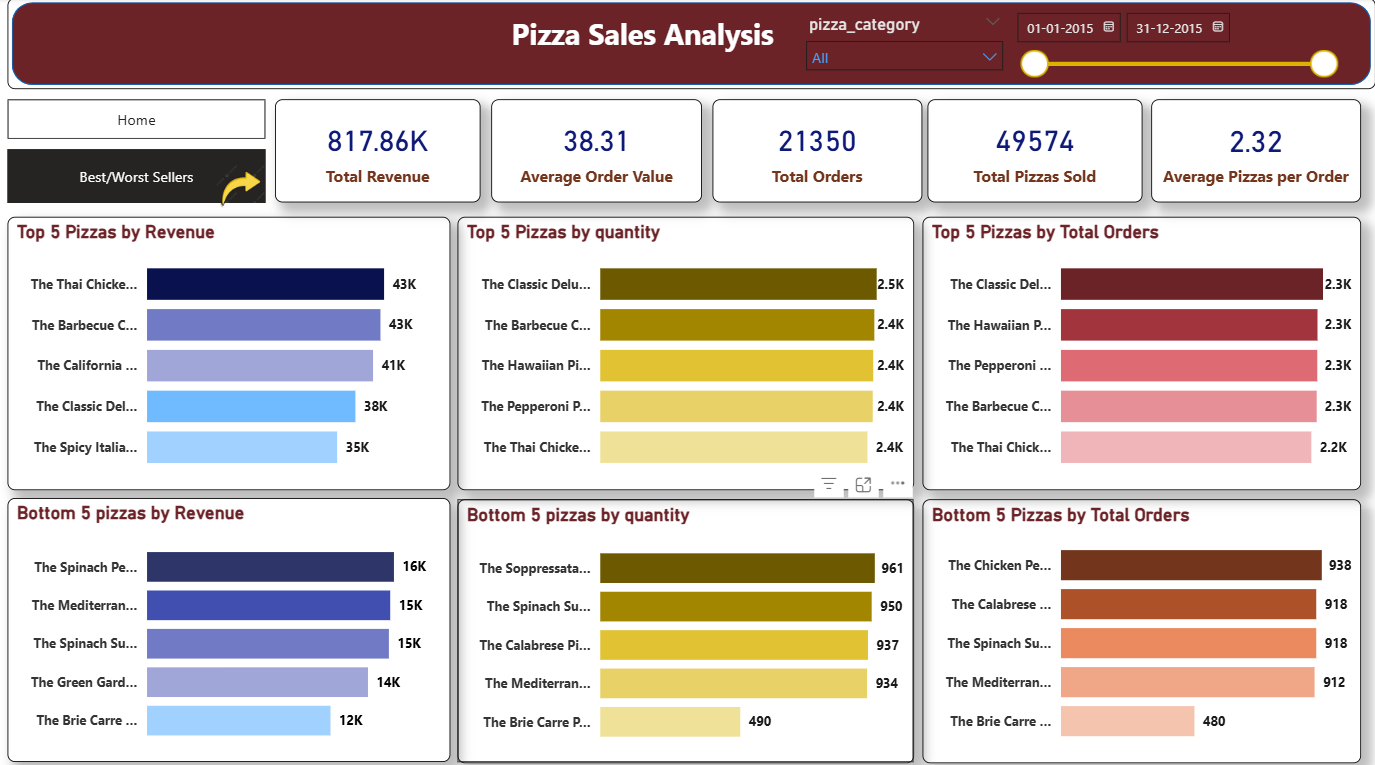

What the dashboard file says about the page in this screenshot:
{"tool":"powerbi","page":{"name":"Best/Worst Sellers","canvas":[1280,720],"ordinal":1},"visuals":[{"type":"shape","box":[7.5,0,1272.5,85],"z":0},{"type":"textbox","box":[471.2,10,457.5,52.5],"z":1000},{"type":"card","fields":{"Values":["pizza_sales.Total Revenue"]},"box":[256.2,93.8,191.2,96.2],"z":2000},{"type":"card","fields":{"Values":["pizza_sales.Average Order Value"]},"box":[457.5,93.8,196.2,96.2],"z":3000},{"type":"card","fields":{"Values":["pizza_sales.Total Orders"]},"box":[662.5,93.8,195,96.2],"z":4000},{"type":"card","fields":{"Values":["pizza_sales.Total Pizzas Sold"]},"box":[862.5,93.8,200,96.2],"z":5000},{"type":"card","fields":{"Values":["pizza_sales.Average Pizzas per Order"]},"box":[1071.2,93.8,195,96.2],"z":6000},{"type":"slicer","fields":{"Values":["pizza_sales.pizza_category"]},"box":[740,10,203.8,66.2],"z":11000},{"type":"slicer","fields":{"Values":["pizza_sales.order_date"]},"box":[934,4,318.8,76.2],"z":12000},{"type":"barChart","title":"Top 5 Pizzas by Revenue","fields":{"Category":["pizza_sales.pizza_name"],"Y":["pizza_sales.Total Revenue"]},"box":[7,203.5,411.6,254.7],"z":13000},{"type":"barChart","title":"Bottom 5 pizzas by Revenue","fields":{"Category":["pizza_sales.pizza_name"],"Y":["pizza_sales.Total Revenue"]},"box":[7,465.1,411.6,245.3],"z":14000},{"type":"barChart","title":"Top 5 Pizzas by quantity","fields":{"Category":["pizza_sales.pizza_name"],"Y":["Sum(pizza_sales.quantity)"]},"box":[425.6,203.5,424.4,254.7],"z":15000},{"type":"barChart","title":"Bottom 5 pizzas by quantity","fields":{"Category":["pizza_sales.pizza_name"],"Y":["Sum(pizza_sales.quantity)"]},"box":[425.6,466.3,424.4,245.3],"z":16000},{"type":"barChart","title":"Top 5 Pizzas by Total Orders","fields":{"Category":["pizza_sales.pizza_name"],"Y":["pizza_sales.Total Orders"]},"box":[858.1,203.5,408.1,254.7],"z":17000},{"type":"barChart","title":"Bottom 5 Pizzas by Total Orders","fields":{"Category":["pizza_sales.pizza_name"],"Y":["pizza_sales.Total Orders"]},"box":[858.1,466.3,408.1,245.3],"z":18000},{"type":"pageNavigator","box":[7,94.2,240.7,37.2],"z":19000},{"type":"pageNavigator","box":[7,140.7,240.7,50],"z":20000},{"type":"image","box":[191.9,147.7,64,60.5],"z":21000}]}

Visuals, with their boxes in screenshot pixels (x1, y1, x2, y2), scaled from the page's 1280x720 canvas onto the 1375x765 screenshot:
shape: <box>8,0,1374,90</box>
textbox: <box>506,11,998,66</box>
card - pizza_sales.Total Revenue: <box>275,100,481,202</box>
card - pizza_sales.Average Order Value: <box>491,100,702,202</box>
card - pizza_sales.Total Orders: <box>712,100,921,202</box>
card - pizza_sales.Total Pizzas Sold: <box>927,100,1141,202</box>
card - pizza_sales.Average Pizzas per Order: <box>1151,100,1360,202</box>
slicer - pizza_sales.pizza_category: <box>795,11,1014,81</box>
slicer - pizza_sales.order_date: <box>1003,4,1346,85</box>
"Top 5 Pizzas by Revenue" barChart: <box>8,216,450,487</box>
"Bottom 5 pizzas by Revenue" barChart: <box>8,494,450,755</box>
"Top 5 Pizzas by quantity" barChart: <box>457,216,913,487</box>
"Bottom 5 pizzas by quantity" barChart: <box>457,495,913,756</box>
"Top 5 Pizzas by Total Orders" barChart: <box>922,216,1360,487</box>
"Bottom 5 Pizzas by Total Orders" barChart: <box>922,495,1360,756</box>
pageNavigator: <box>8,100,266,140</box>
pageNavigator: <box>8,149,266,203</box>
image: <box>206,157,275,221</box>
